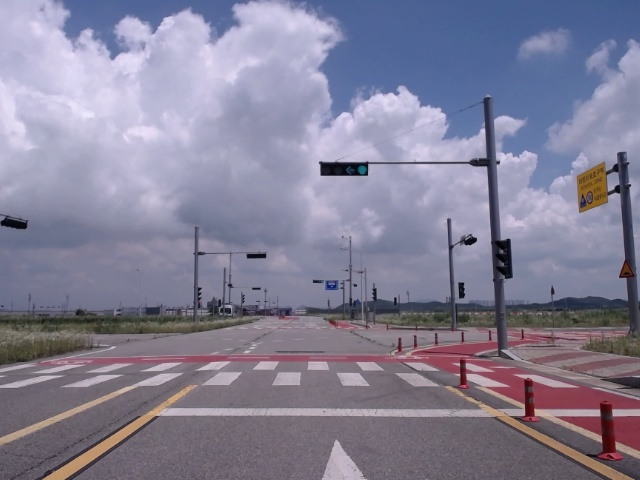all_green_4: (315, 163, 363, 177), (321, 165, 366, 178)
